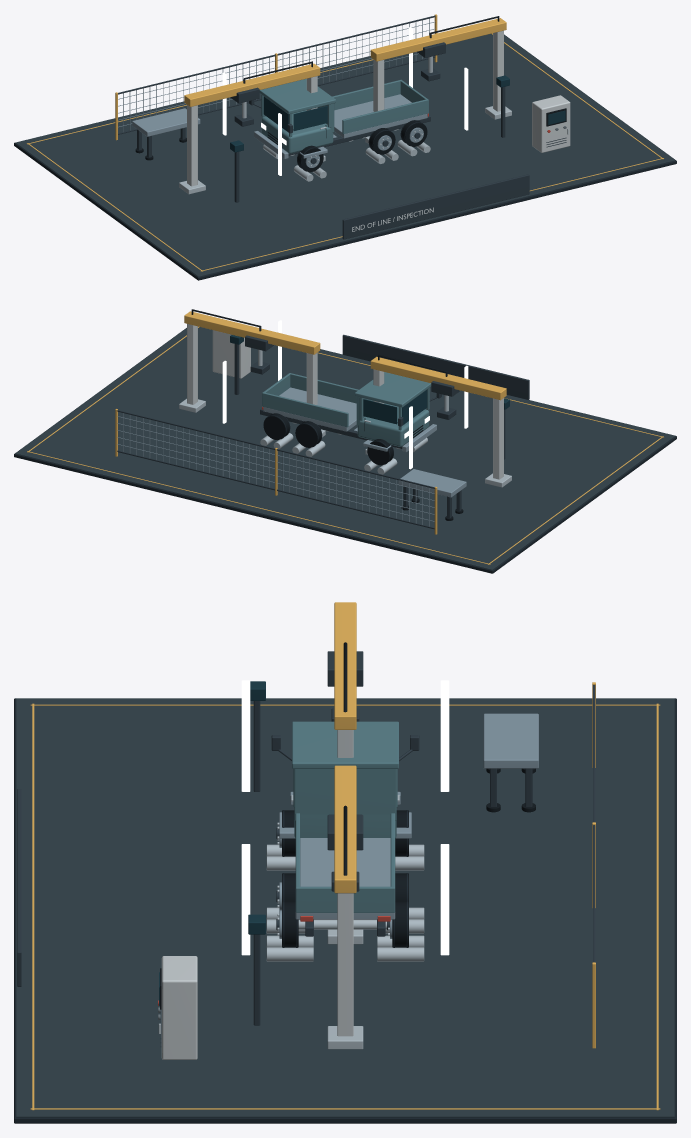
The model's file is vehicle-inspection.glb.
The picture shows the model from 3 angles, top to bottom: view 1: azimuth 30°, elevation 25°; view 2: azimuth 150°, elevation 25°; view 3: azimuth 270°, elevation 25°; orthographic projection. The views are drawn at different scales.
Visible parts, largest first — view 1: vehicle_inspection_Workshop_Epoxy, vehicle_inspection_Enamel_Graphite, vehicle_inspection_Truck_Petrol, vehicle_inspection_Brushed_Aluminium, vehicle_inspection_Safety_Amber, vehicle_inspection_Enamel_Pearl, vehicle_inspection_Cast_Base, vehicle_inspection_Rubber_Seal, vehicle_inspection_Machined_Steel, vehicle_inspection_Display_Glass, vehicle_inspection_Work_Light; view 2: vehicle_inspection_Workshop_Epoxy, vehicle_inspection_Enamel_Graphite, vehicle_inspection_Brushed_Aluminium, vehicle_inspection_Safety_Amber, vehicle_inspection_Truck_Petrol, vehicle_inspection_Enamel_Pearl, vehicle_inspection_Cast_Base, vehicle_inspection_Rubber_Seal, vehicle_inspection_Machined_Steel, vehicle_inspection_Display_Glass, vehicle_inspection_Work_Light; view 3: vehicle_inspection_Workshop_Epoxy, vehicle_inspection_Truck_Petrol, vehicle_inspection_Safety_Amber, vehicle_inspection_Cast_Base, vehicle_inspection_Brushed_Aluminium, vehicle_inspection_Enamel_Pearl, vehicle_inspection_Enamel_Graphite, vehicle_inspection_Machined_Steel, vehicle_inspection_Work_Light, vehicle_inspection_Rubber_Seal.
Part boxes in pixels (x1=…): vehicle_inspection_Workshop_Epoxy: x1=15, y1=34, x2=675, y2=276; vehicle_inspection_Enamel_Graphite: x1=118, y1=15, x2=566, y2=239; vehicle_inspection_Truck_Petrol: x1=259, y1=79, x2=428, y2=153; vehicle_inspection_Brushed_Aluminium: x1=118, y1=18, x2=434, y2=167; vehicle_inspection_Safety_Amber: x1=27, y1=14, x2=663, y2=271; vehicle_inspection_Enamel_Pearl: x1=187, y1=30, x2=570, y2=186; vehicle_inspection_Cast_Base: x1=14, y1=34, x2=676, y2=280; vehicle_inspection_Rubber_Seal: x1=135, y1=16, x2=566, y2=172; vehicle_inspection_Machined_Steel: x1=179, y1=56, x2=568, y2=194; vehicle_inspection_Display_Glass: x1=230, y1=75, x2=565, y2=152; vehicle_inspection_Work_Light: x1=222, y1=27, x2=468, y2=175; vehicle_inspection_Workshop_Epoxy: x1=15, y1=326, x2=675, y2=569; vehicle_inspection_Enamel_Graphite: x1=117, y1=334, x2=529, y2=529; vehicle_inspection_Brushed_Aluminium: x1=117, y1=387, x2=466, y2=526; vehicle_inspection_Safety_Amber: x1=27, y1=311, x2=663, y2=564; vehicle_inspection_Truck_Petrol: x1=262, y1=372, x2=431, y2=446; vehicle_inspection_Enamel_Pearl: x1=187, y1=324, x2=503, y2=479; vehicle_inspection_Cast_Base: x1=14, y1=328, x2=676, y2=573; vehicle_inspection_Rubber_Seal: x1=191, y1=309, x2=463, y2=520; vehicle_inspection_Machined_Steel: x1=179, y1=349, x2=511, y2=487; vehicle_inspection_Display_Glass: x1=230, y1=335, x2=509, y2=424; vehicle_inspection_Work_Light: x1=222, y1=320, x2=468, y2=469; vehicle_inspection_Workshop_Epoxy: x1=16, y1=698, x2=674, y2=1117; vehicle_inspection_Truck_Petrol: x1=292, y1=721, x2=398, y2=912; vehicle_inspection_Safety_Amber: x1=30, y1=602, x2=660, y2=1110; vehicle_inspection_Cast_Base: x1=14, y1=698, x2=676, y2=1123; vehicle_inspection_Brushed_Aluminium: x1=279, y1=713, x2=538, y2=938; vehicle_inspection_Enamel_Pearl: x1=161, y1=730, x2=353, y2=1059; vehicle_inspection_Enamel_Graphite: x1=17, y1=651, x2=595, y2=1046; vehicle_inspection_Machined_Steel: x1=158, y1=795, x2=424, y2=1049; vehicle_inspection_Work_Light: x1=241, y1=680, x2=449, y2=955; vehicle_inspection_Rubber_Seal: x1=160, y1=642, x2=535, y2=1009.
Size of the model in its own units: 18 by 3.64 by 12.
